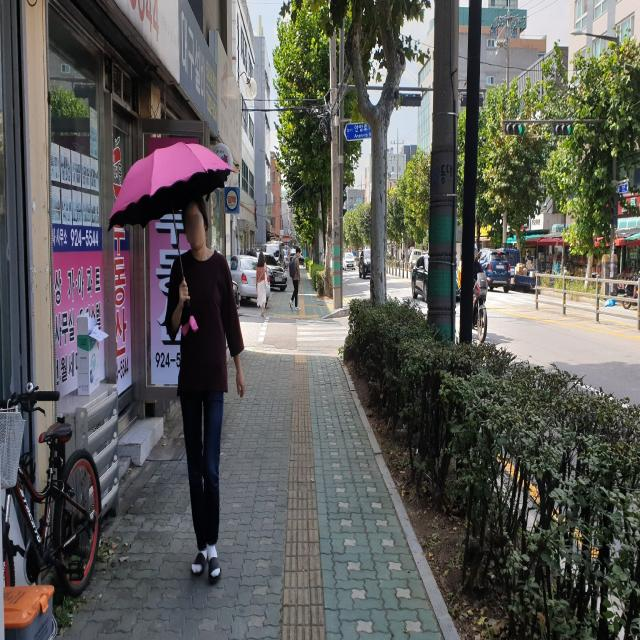횡단보도: (296, 318, 352, 342)
